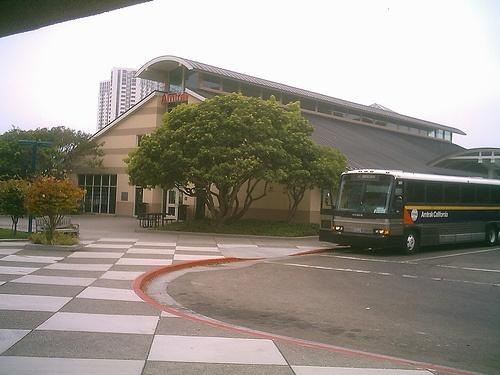bus: (325, 166, 500, 257)
